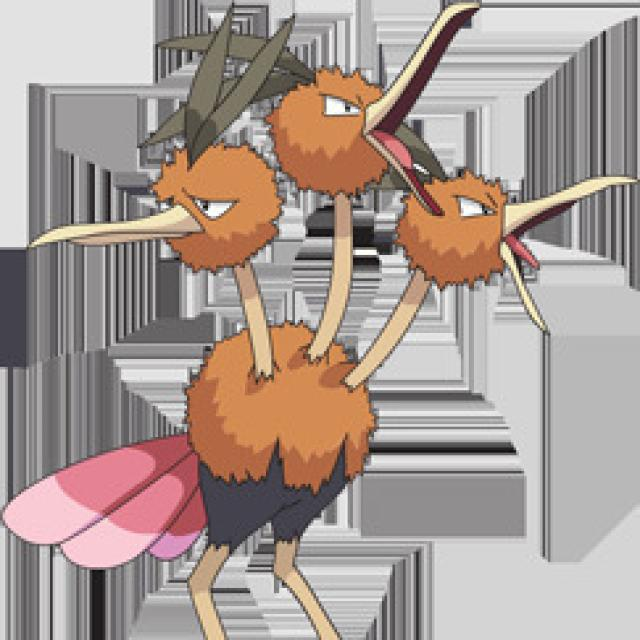Dodrio: (129, 70, 538, 639)
